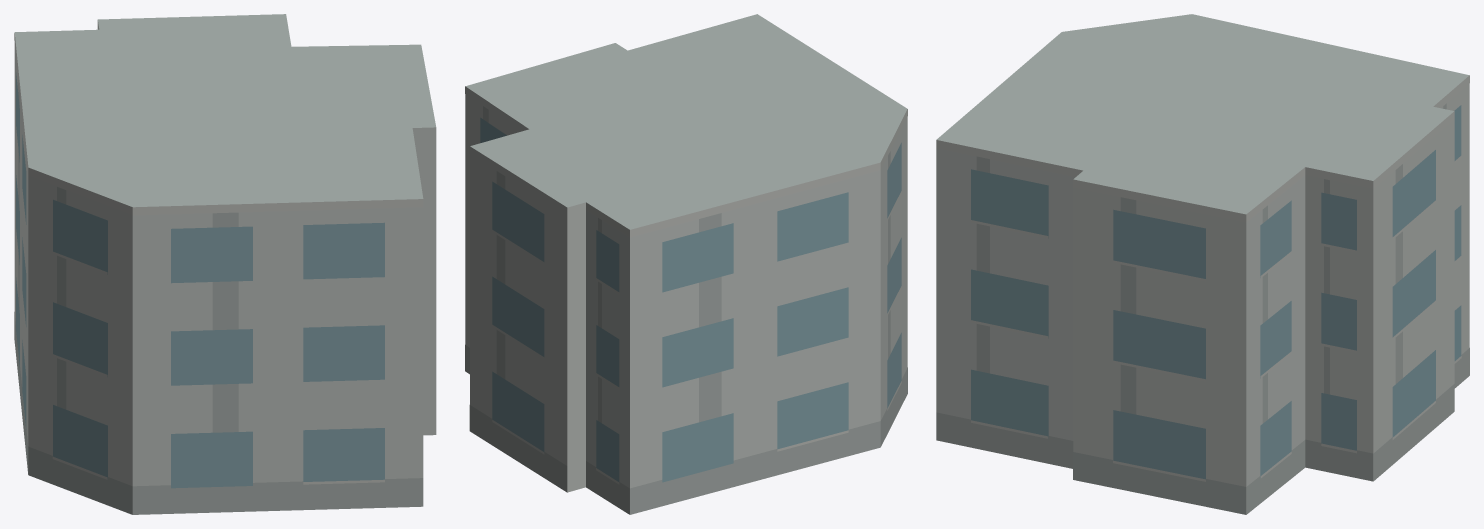
The model's file is residential-a18ca3dc-8a27-4eac-8812-8f5fcb6dc354.glb.
3 views of the same model, side by side, from view 1: azimuth 30°, elevation 25°; view 2: azimuth 150°, elevation 25°; view 3: azimuth 270°, elevation 25° (orthographic). The views are drawn at different scales.
Parts seen in each view (by area): view 1: residential-a18ca3dc-8a27-4eac-8812-8f5fcb6dc354.tmp; view 2: residential-a18ca3dc-8a27-4eac-8812-8f5fcb6dc354.tmp; view 3: residential-a18ca3dc-8a27-4eac-8812-8f5fcb6dc354.tmp.
Boxes of the visible parts, x1,y1,x2,y2 form: residential-a18ca3dc-8a27-4eac-8812-8f5fcb6dc354.tmp: [14, 14, 436, 514]; residential-a18ca3dc-8a27-4eac-8812-8f5fcb6dc354.tmp: [465, 14, 907, 514]; residential-a18ca3dc-8a27-4eac-8812-8f5fcb6dc354.tmp: [936, 14, 1469, 514].
Bounding box in the file's own units: 12.89 × 9 × 14.49.
